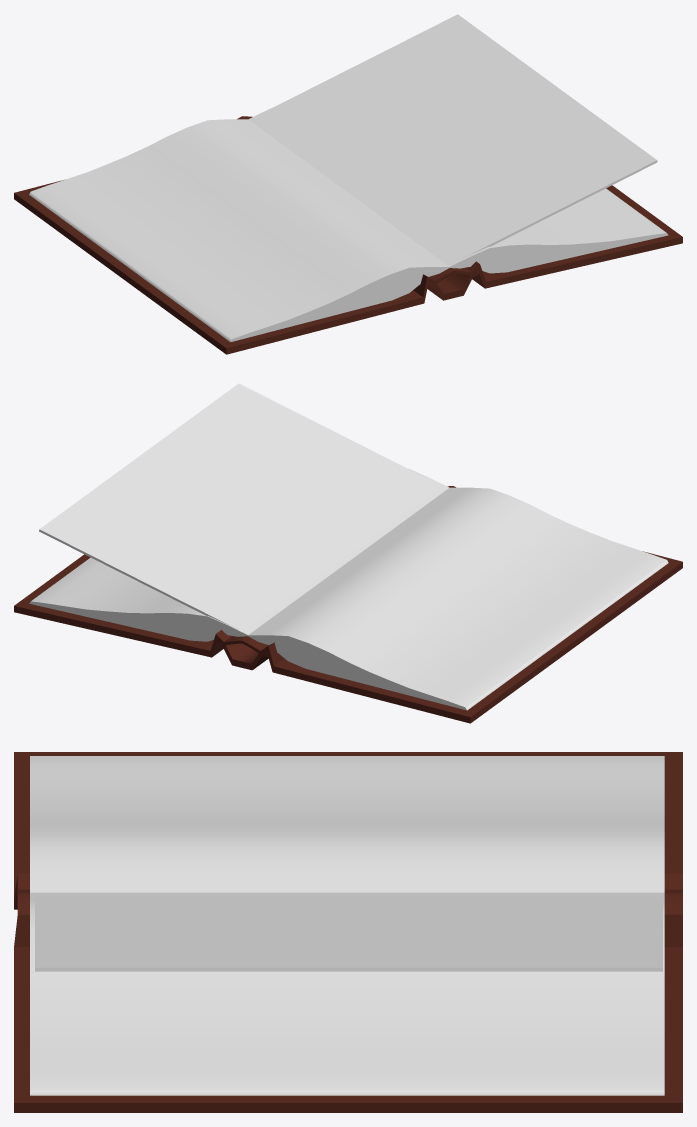
The model's file is Book.fbx.
3 renders of one model, top to bottom at view 1: azimuth 30°, elevation 25°; view 2: azimuth 150°, elevation 25°; view 3: azimuth 270°, elevation 25°, orthographic. The views are drawn at different scales.
Parts seen in each view (by area): view 1: BookCover, Page; view 2: BookCover, Page; view 3: BookCover, Page.
Part boxes in pixels (left/top/right/bottom): BookCover: left=14, top=107, right=682, bottom=354; Page: left=255, top=14, right=657, bottom=262; BookCover: left=14, top=468, right=682, bottom=723; Page: left=39, top=383, right=441, bottom=631; BookCover: left=14, top=752, right=682, bottom=1112; Page: left=35, top=895, right=662, bottom=971.
Bounding box in the file's own units: 21.15 × 3.75 × 17.05.
